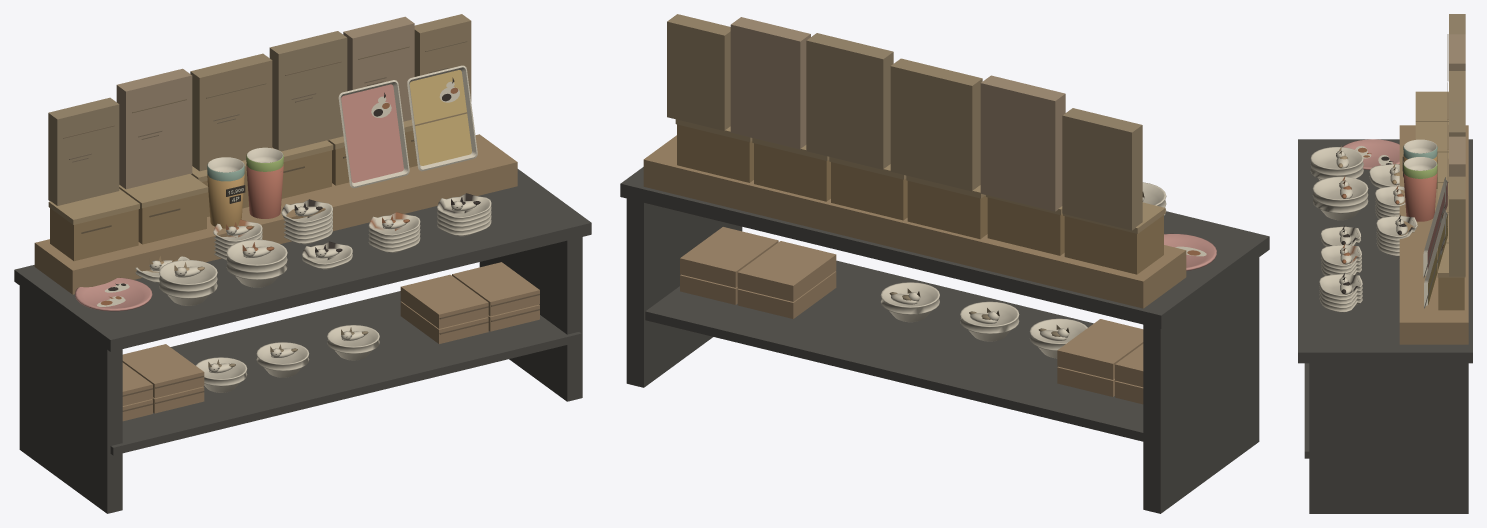
File: catware.glb
3 views of the same model, side by side, from view 1: azimuth 30°, elevation 25°; view 2: azimuth 150°, elevation 25°; view 3: azimuth 270°, elevation 25° (orthographic). The views are drawn at different scales.
Parts seen in each view (by area): view 1: Surface; view 2: Surface; view 3: Surface.
Part boxes in pixels (x1,y1,x2,y2): Surface: [14, 14, 591, 513]; Surface: [620, 14, 1269, 513]; Surface: [1298, 14, 1472, 513].
Size of the model in its own units: 2.25 by 1.53 by 0.7801.
